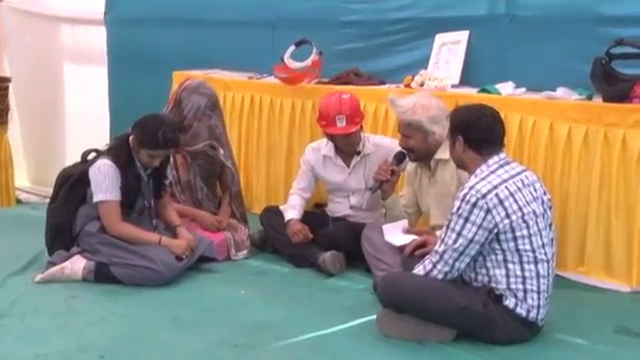helmet: (311, 92, 367, 137)
helmet_off: (448, 100, 511, 181), (166, 79, 226, 147), (121, 112, 181, 178), (395, 95, 448, 168)
helmet_on: (313, 93, 370, 161)
person: (367, 88, 558, 343), (253, 85, 411, 278), (34, 114, 209, 286), (358, 94, 476, 276), (150, 65, 249, 263)
